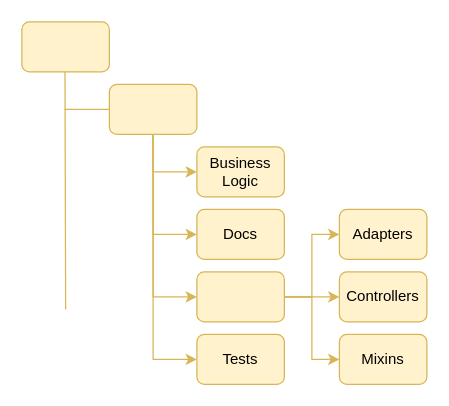
The diagram is 449 pixels wide and 406 high, and some of its shapes have lost their labels. Each missing label, with the centre of its shape:
"<MODULE>" goes at [152,108].
"Infrastructure" goes at [240,296].
"src" goes at [65,46].
